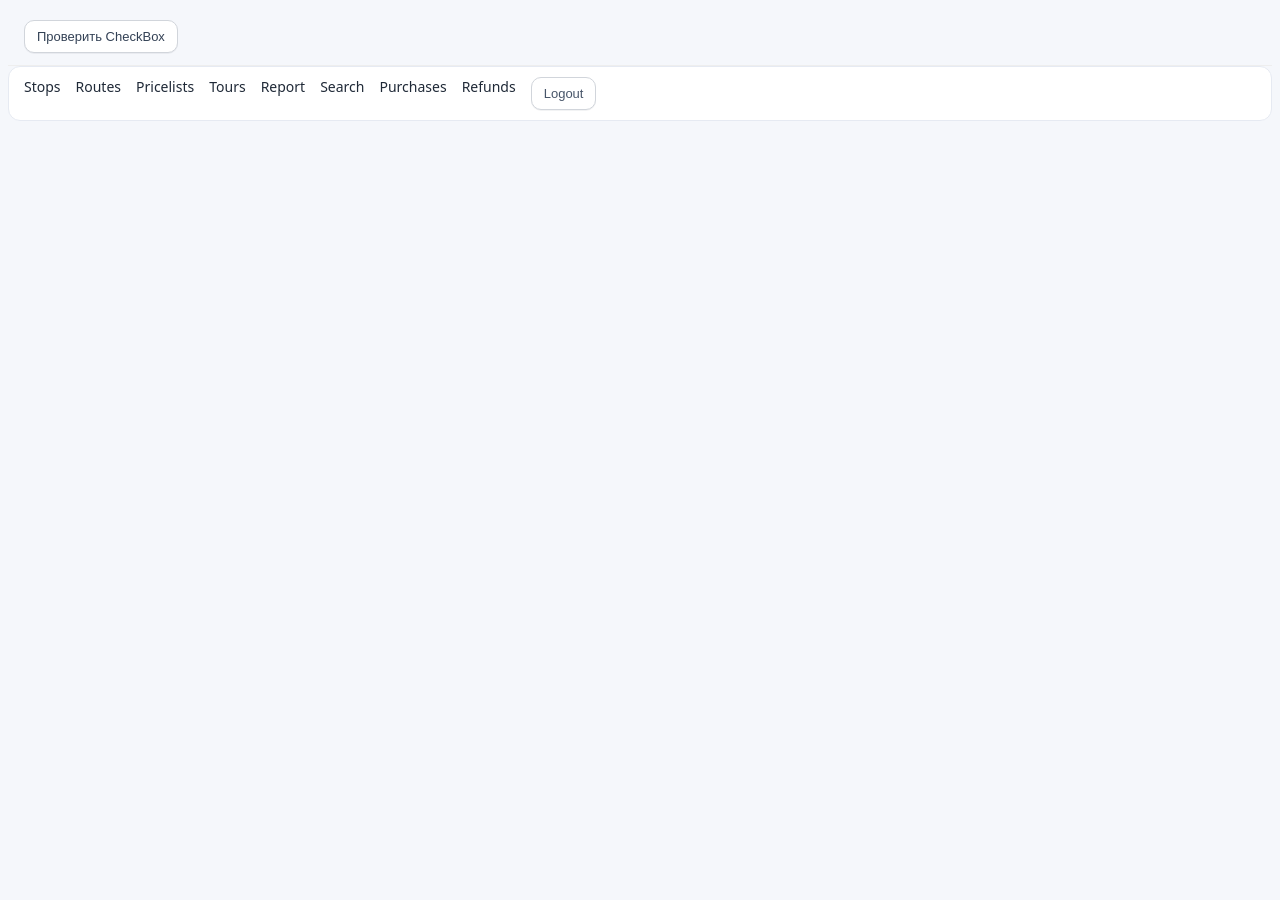
Test: checkbox health error render
Click the button "Проверить CheckBox": click(101, 36) [24, 20, 178, 53]
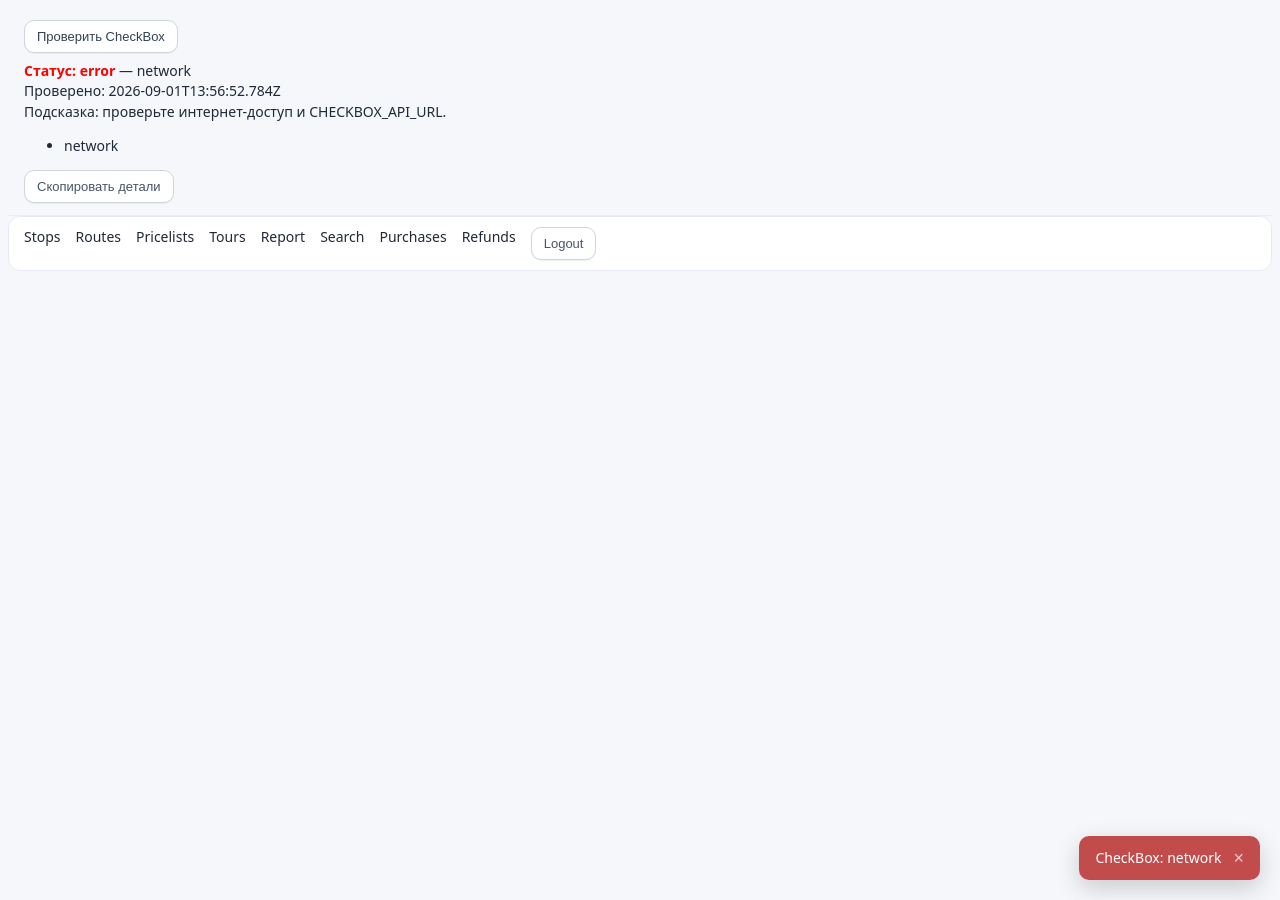
expect the text "Статус: error" is shown: met, box [24, 61, 115, 80]
